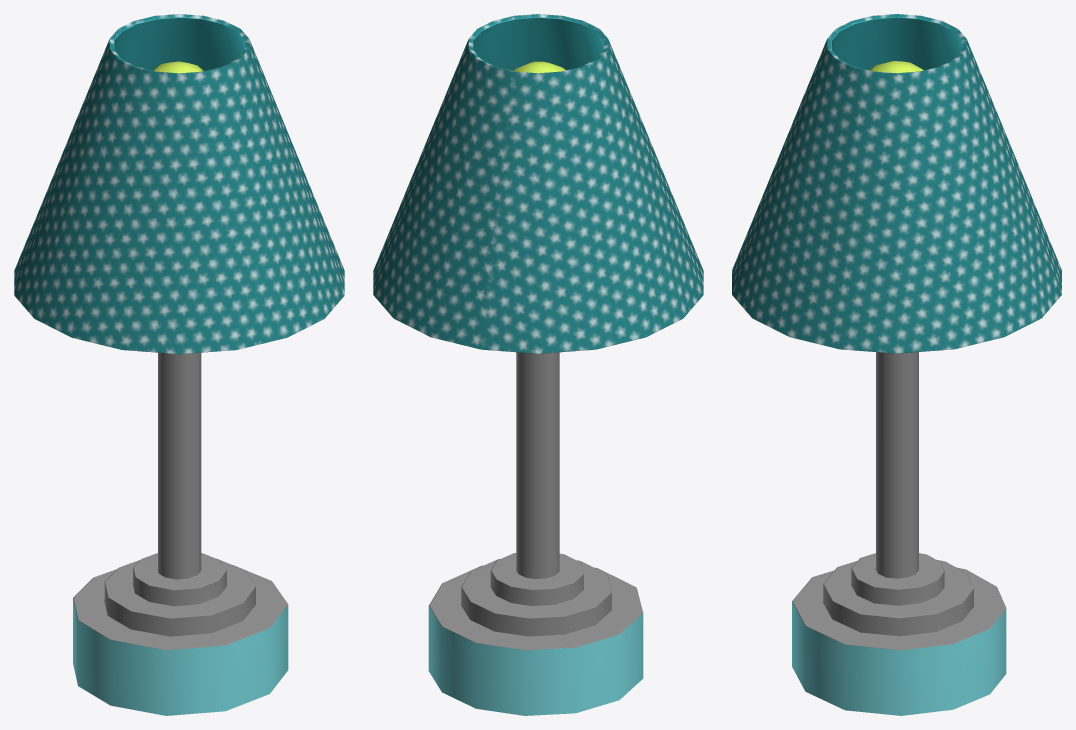
File: SM_Flashlight.fbx
3 renders of one model, left to right at view 1: azimuth 30°, elevation 25°; view 2: azimuth 150°, elevation 25°; view 3: azimuth 270°, elevation 25°, orthographic.
Parts seen in each view (by area): view 1: SM_Flashlight; view 2: SM_Flashlight; view 3: SM_Flashlight.
Boxes of the visible parts, box(x1,y1,x2,y2) form: SM_Flashlight: box(14, 14, 344, 715); SM_Flashlight: box(373, 14, 703, 715); SM_Flashlight: box(732, 14, 1061, 715).
Bounding box in the file's own units: 48.87 × 48.13 × 101.
1 material, 1 textured.
